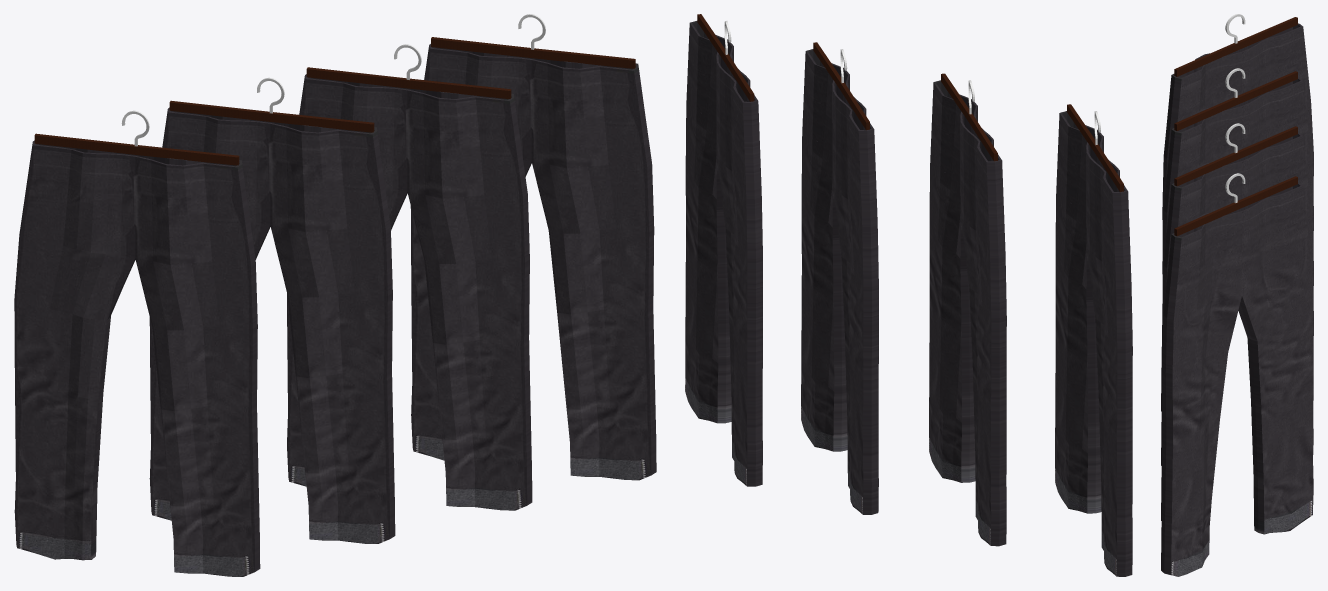
Rendered from inariblck1.glb.
The picture shows the model from 3 angles, left to right: view 1: azimuth 30°, elevation 25°; view 2: azimuth 150°, elevation 25°; view 3: azimuth 270°, elevation 25°; orthographic projection. The views are drawn at different scales.
Parts seen in each view (by area): view 1: Plane.299; view 2: Plane.299; view 3: Plane.299.
Part boxes in pixels (x1,y1,x2,y2): Plane.299: (14,14,656,576); Plane.299: (685,14,1132,576); Plane.299: (1161,14,1313,576).
Bounding box in the file's own units: 0.6072 × 0.4706 × 0.1741.
Materials: 3 (3 with a texture image).
